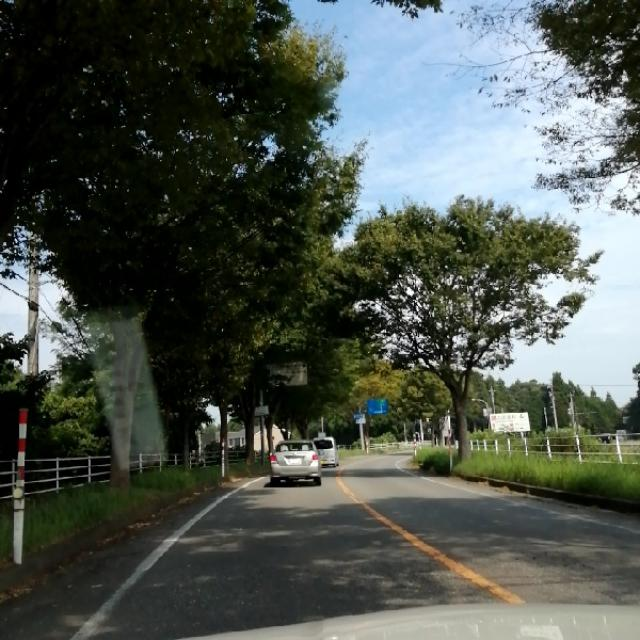pothole: (524, 546, 639, 588)
